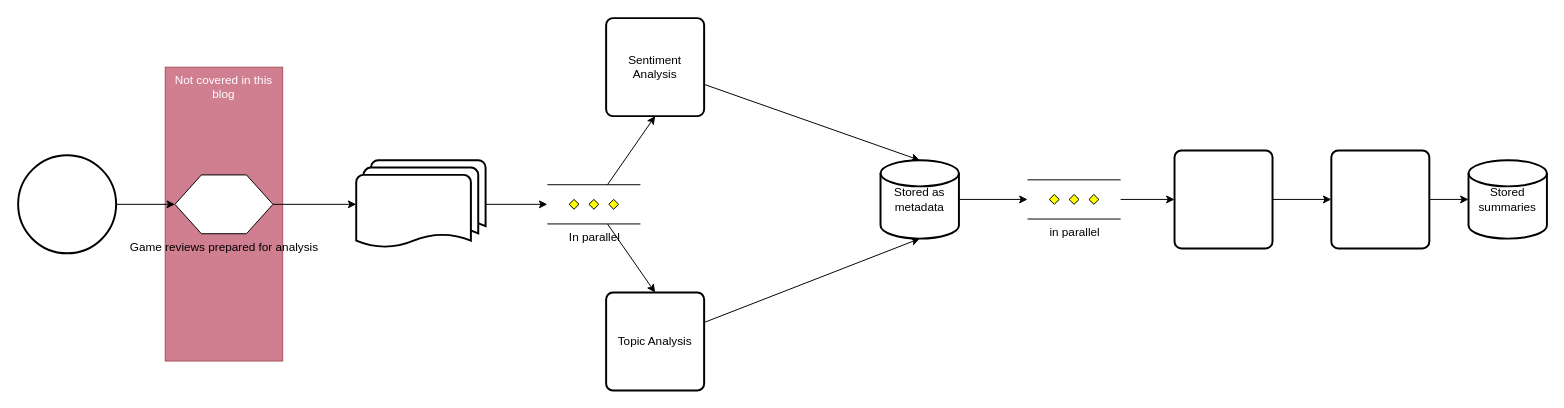
Some shapes in this 1564 by 408 pixel diagram are drawn without their labels. The centre of each missing label's shape, as x and y in pixels:
Game Reviews: point (420, 204)
Group reviews per sentiment and topic: point (1223, 199)
Start: point (67, 204)
Summarise grouped reviews: point (1380, 199)
